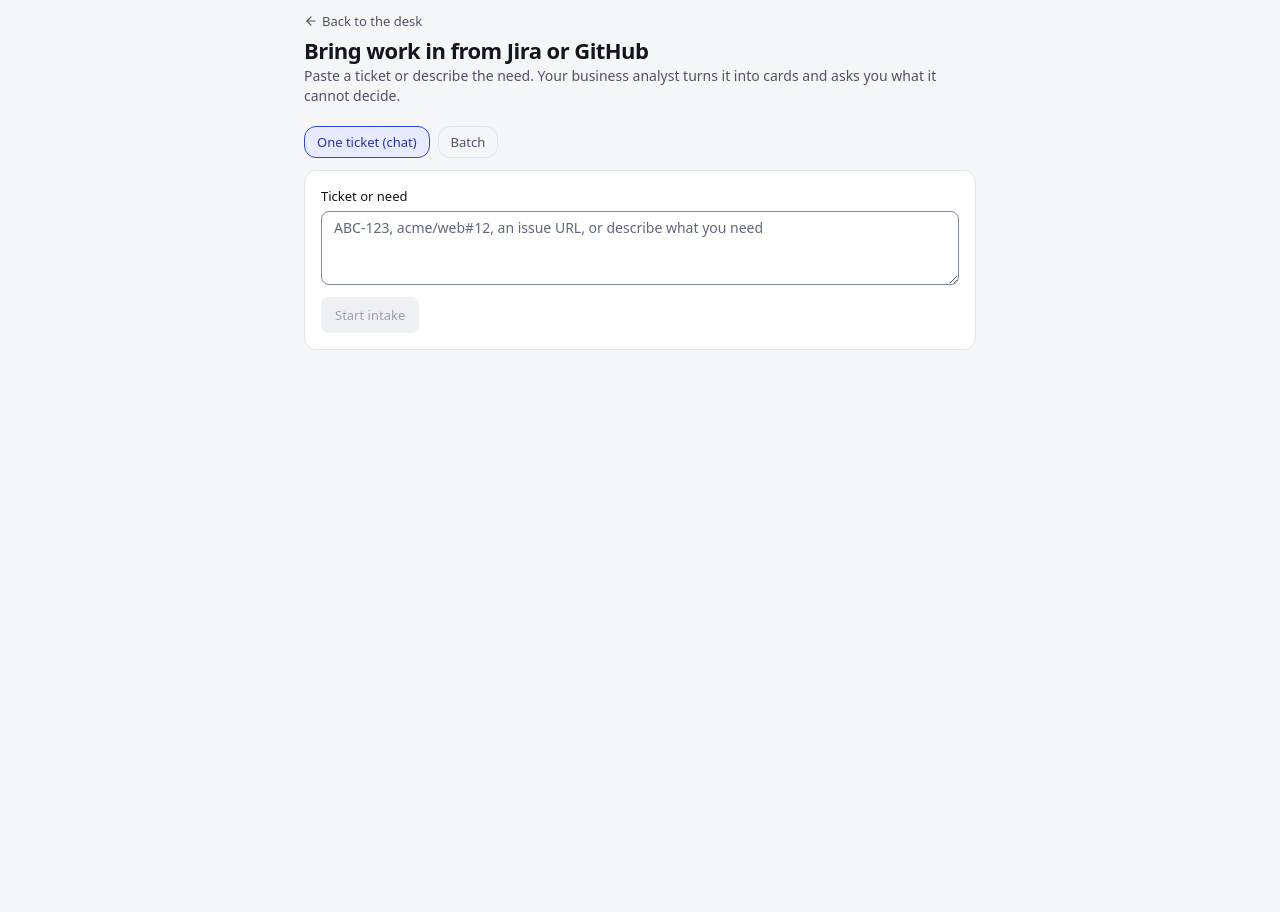
Test: Intake page › starts an intake from a pasted ticket and opens the conversation
Expected: the button "Start intake" is disabled, [321,297,419,333]
Type "ABC-123" into the text box labelled "Ticket or need".
click(640, 248); type("ABC-123")  # box [321,211,959,285]
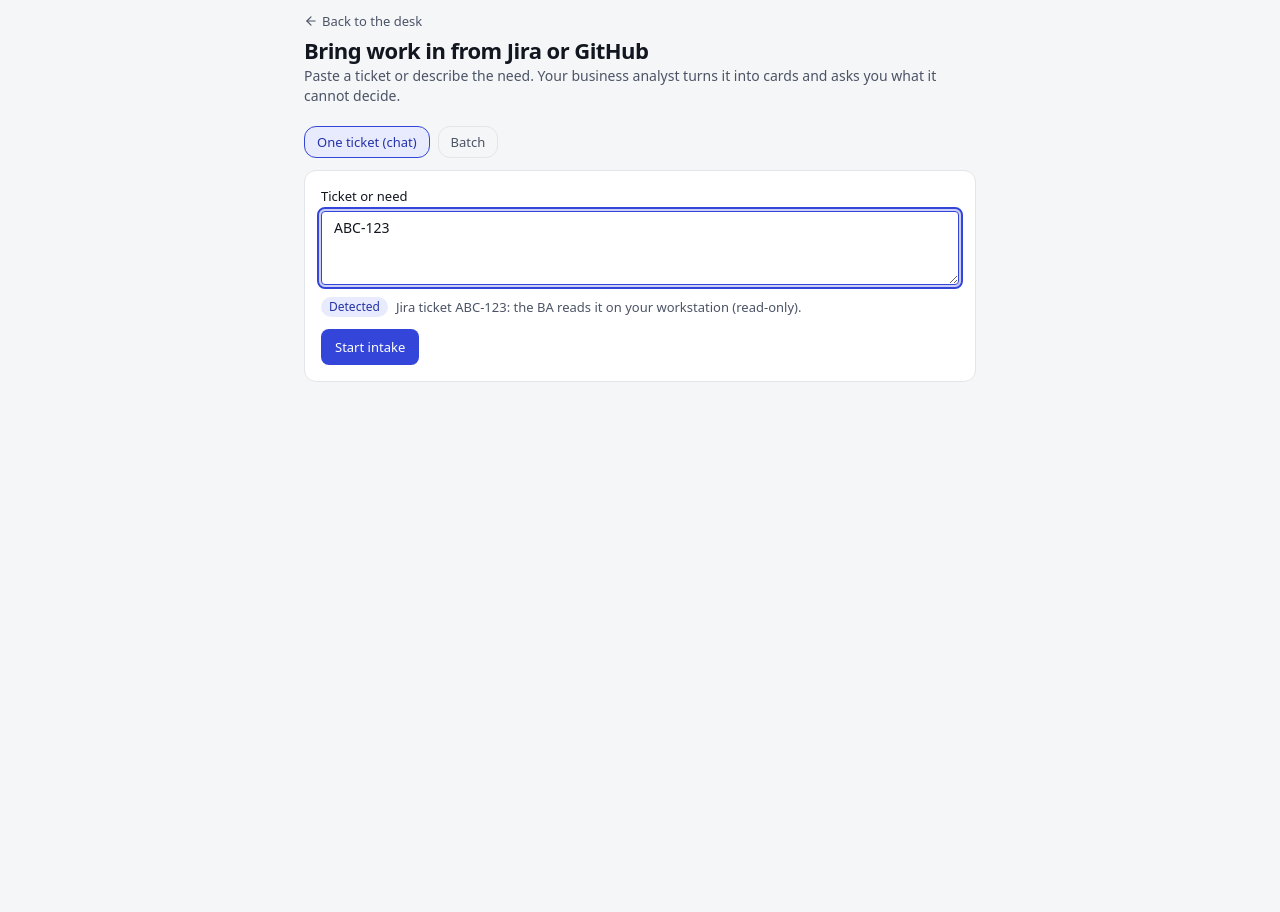
Expected: the element with test id "intake-source" shows "Jira ticket ABC-123", [396,298,802,316]
Click the button "Start intake".
click(370, 347)  # box [321,329,419,365]
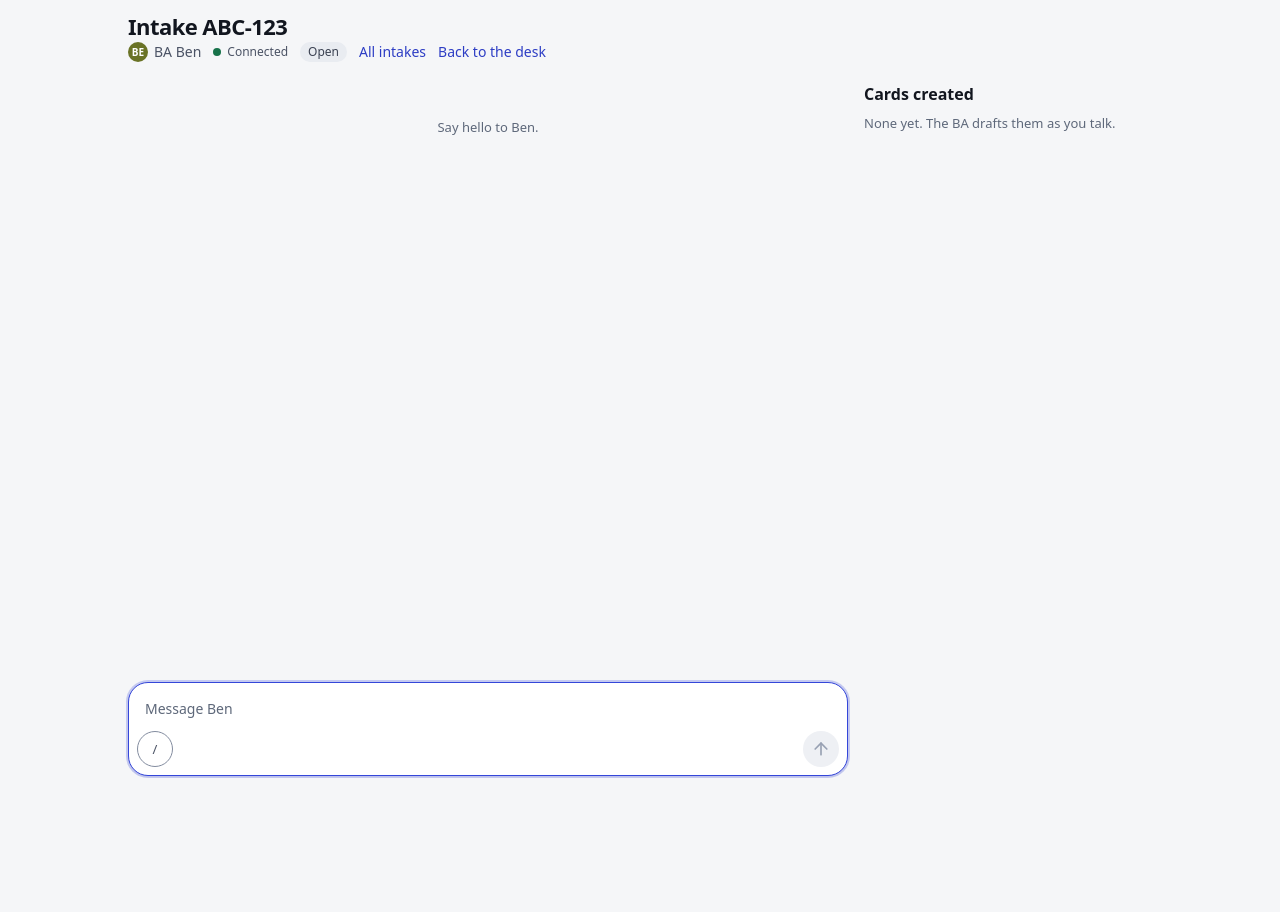
Expected: the heading "Intake ABC-123" is shown, [128,11,287,41]
Expected: the element with test id "chat-panel" is shown, [128,82,848,776]
Expected: the text "None yet. The BA drafts them as you talk." is shown, [864,114,1152,132]
